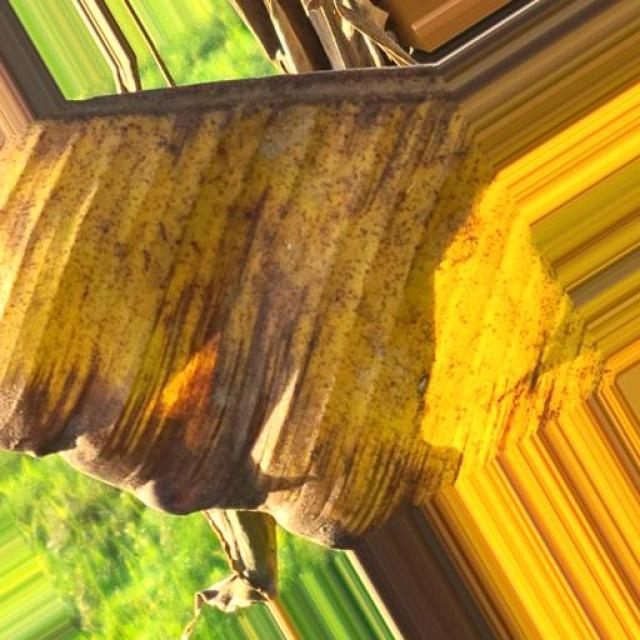Cordana: (1, 0, 640, 570)
